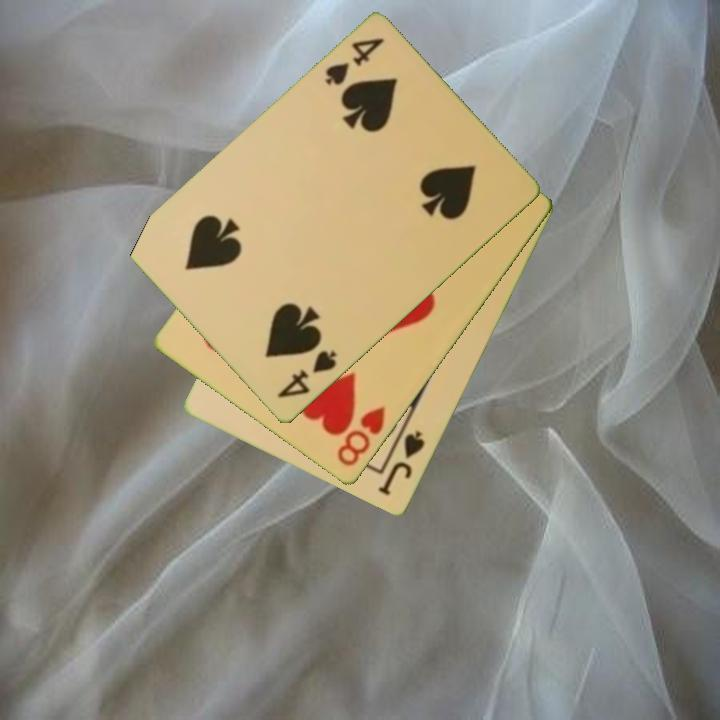4s: (273, 347, 340, 402), (321, 34, 388, 89)
8h: (333, 403, 389, 470)
Js: (375, 428, 428, 499)
